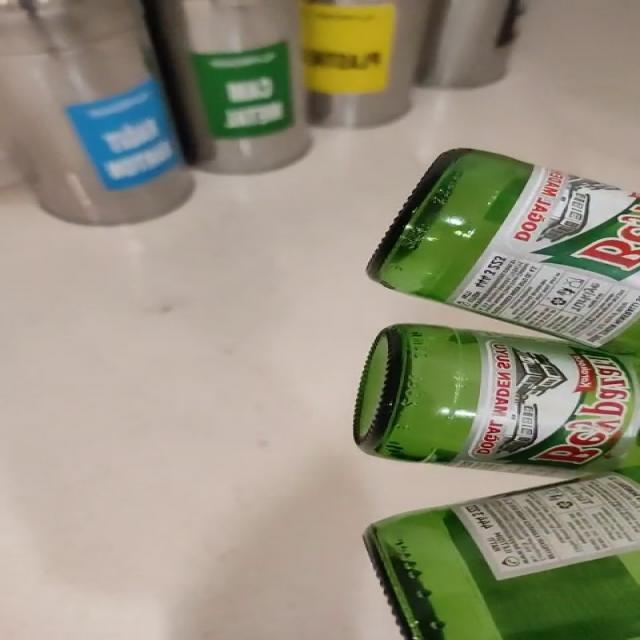Glass: (368, 148, 533, 302)
